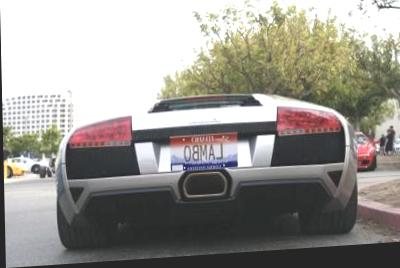License_Plate: (171, 131, 239, 172)
